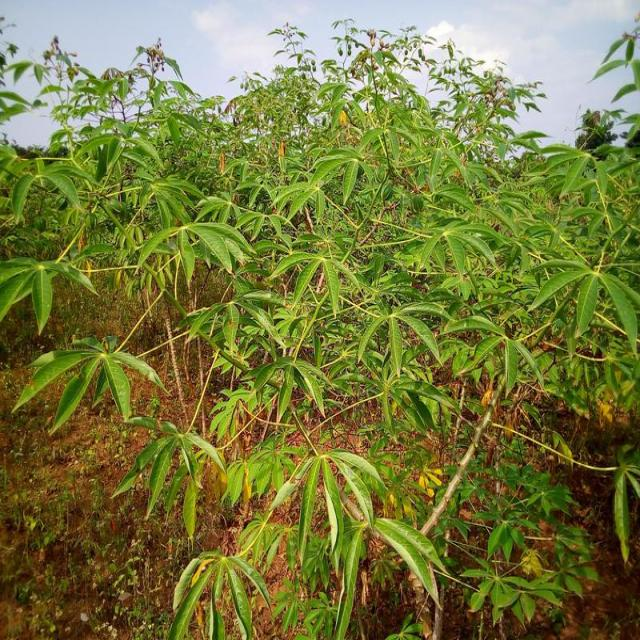cassava leaf: (1, 17, 638, 637)
